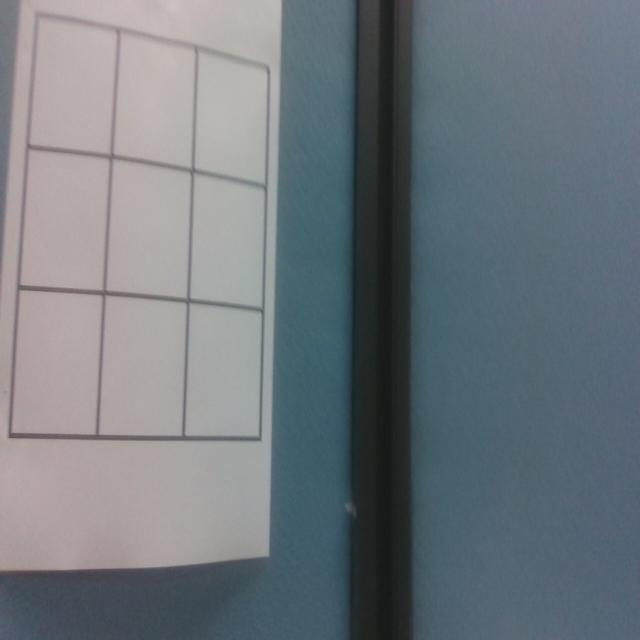null: (11, 287, 102, 439), (99, 293, 188, 440), (19, 151, 109, 294), (105, 158, 192, 303), (29, 17, 117, 156), (113, 32, 195, 170), (186, 299, 264, 442), (190, 174, 266, 313), (195, 49, 269, 187)
table: (8, 7, 276, 448)
